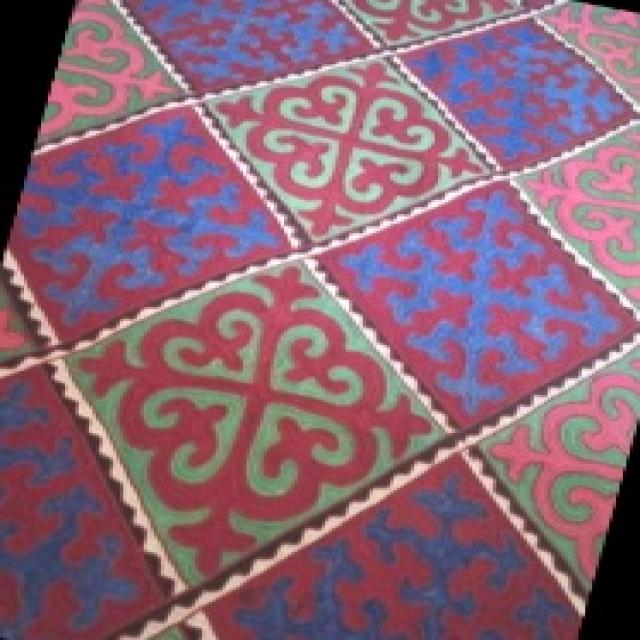Unity: (68, 261, 444, 582), (205, 59, 501, 238), (484, 344, 637, 604), (519, 119, 637, 315), (41, 1, 185, 147)
